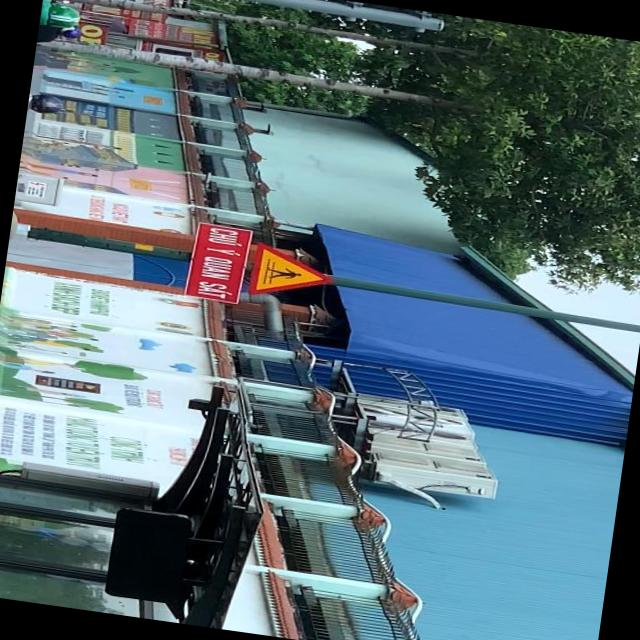W-224: (246, 240, 340, 304)
